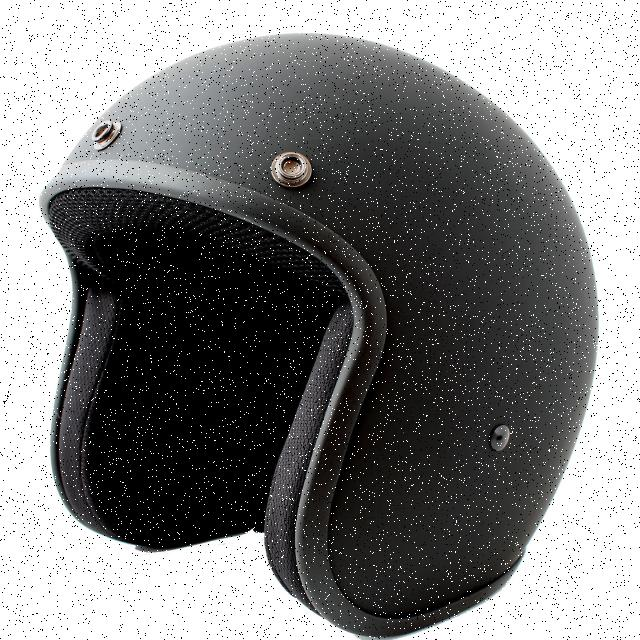Helmet: (41, 35, 598, 637)
